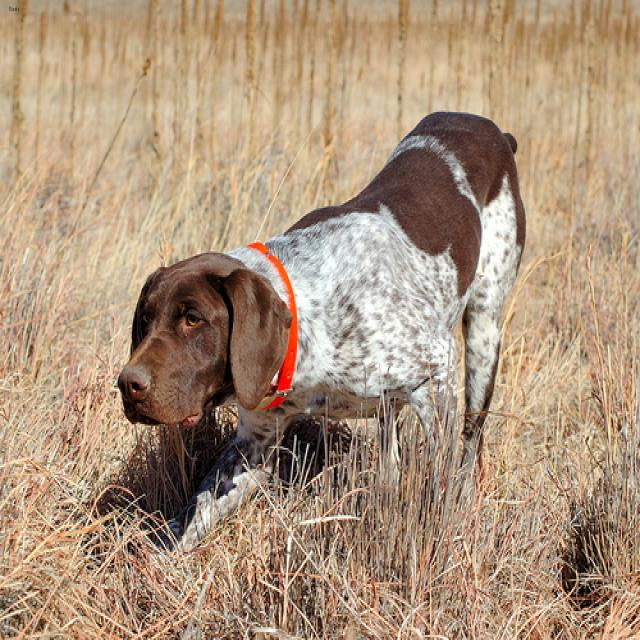dog-german_shorthaired: (110, 102, 530, 558)
